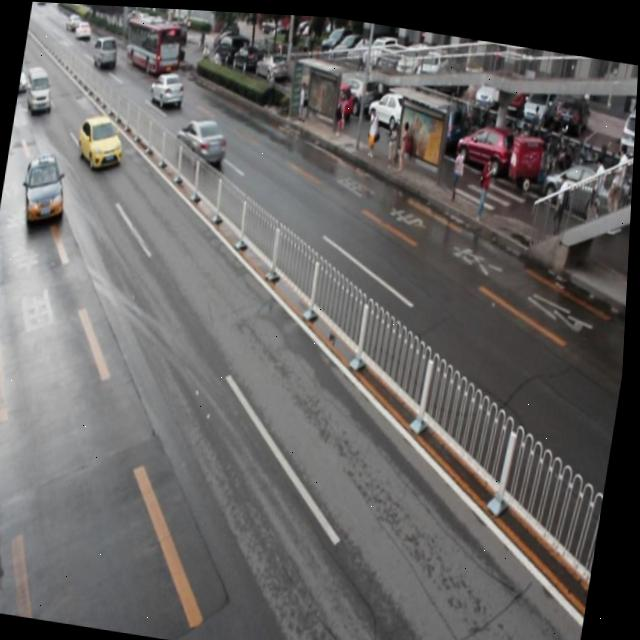car: (20, 149, 74, 230), (75, 108, 129, 170), (174, 110, 231, 165), (150, 67, 187, 106)
